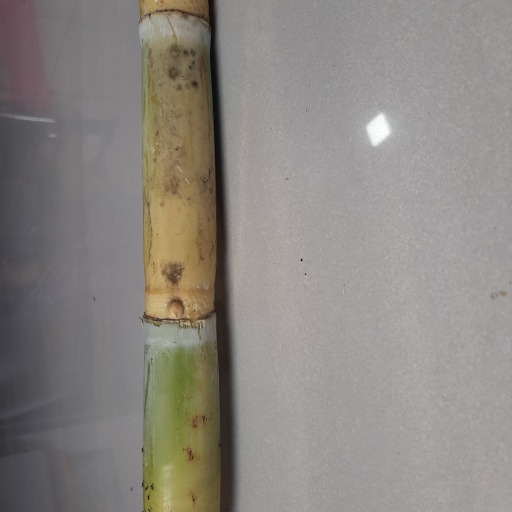Bud: (166, 298, 185, 321)
